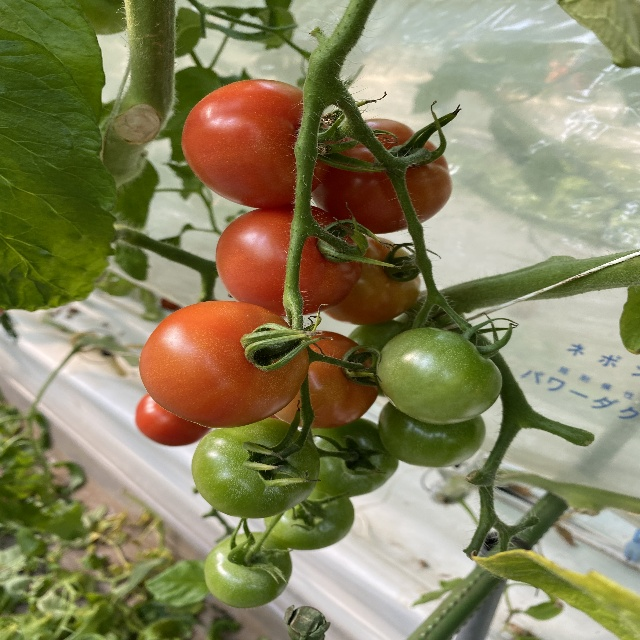l_fully_ripened: (139, 300, 309, 429), (182, 79, 332, 208), (215, 204, 362, 317), (311, 119, 452, 234), (136, 392, 210, 447)
l_green: (192, 418, 321, 519), (376, 327, 503, 424), (305, 417, 399, 497), (378, 399, 485, 468), (204, 530, 293, 608), (264, 484, 355, 549)
l_half_ripened: (274, 330, 379, 429), (322, 235, 420, 325)
